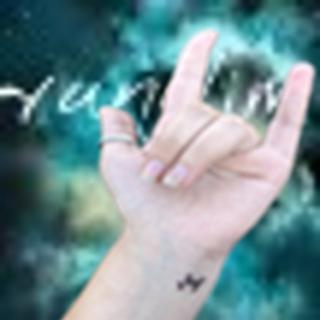ILY: (93, 27, 320, 259)
